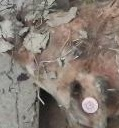text: (77, 90, 103, 118)
